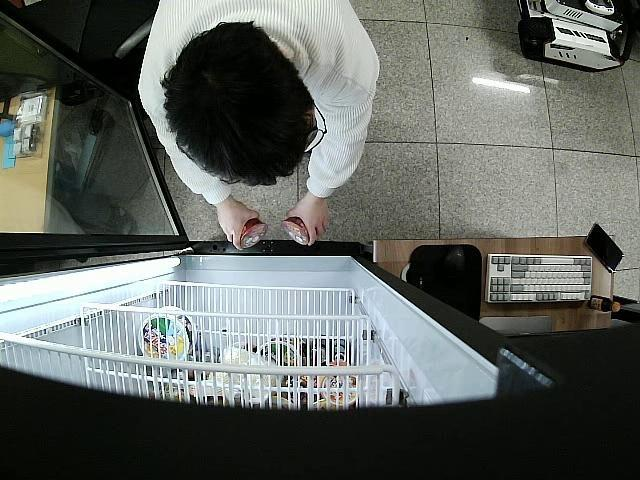06_nuguri_S: (236, 214, 268, 250), (282, 215, 316, 245)
